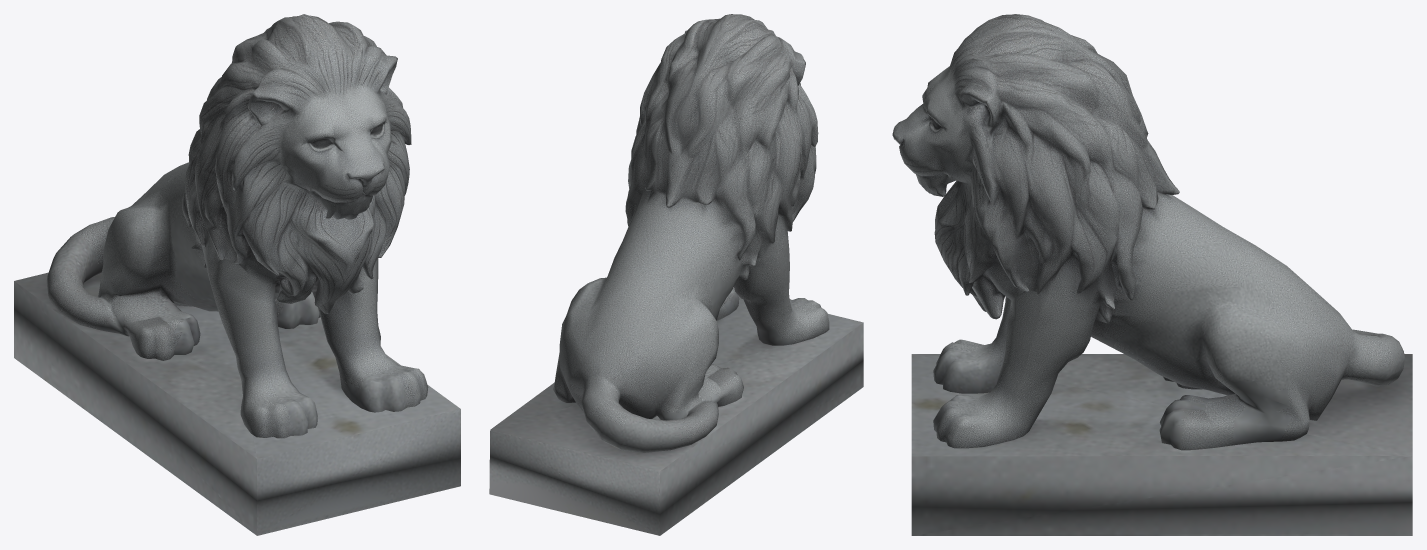
Rendered from lion_seated.glb.
The picture shows the model from 3 angles, left to right: view 1: azimuth 30°, elevation 25°; view 2: azimuth 150°, elevation 25°; view 3: azimuth 270°, elevation 25°; orthographic projection. The views are drawn at different scales.
Bounding box in the file's own units: 0.46 × 0.9507 × 0.9565.
Materials: 1 (1 with a texture image).
